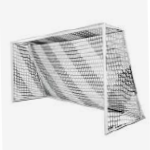goals: (10, 21, 148, 137)
